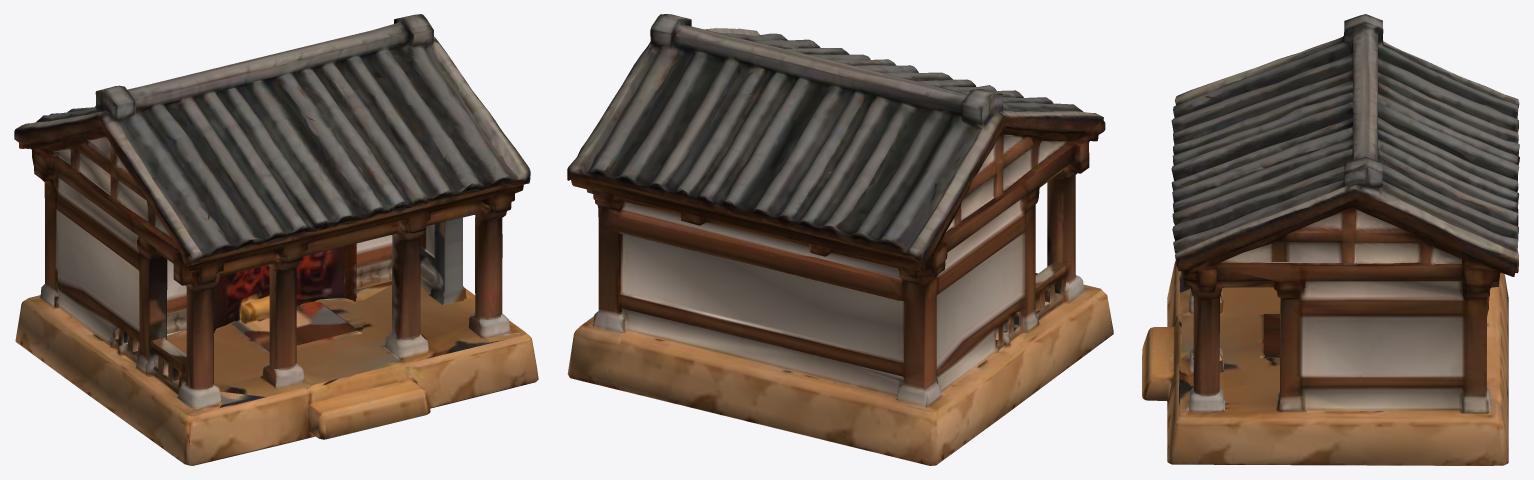
File: council-hall.glb
3 views of the same model, side by side, from view 1: azimuth 30°, elevation 25°; view 2: azimuth 150°, elevation 25°; view 3: azimuth 270°, elevation 25° (orthographic). The views are drawn at different scales.
Parts seen in each view (by area): view 1: 1_output_1793794814482953_YuXORKcny; view 2: 1_output_1793794814482953_YuXORKcny; view 3: 1_output_1793794814482953_YuXORKcny.
Boxes of the visible parts, x1,y1,x2,y2 form: 1_output_1793794814482953_YuXORKcny: [14, 14, 538, 465]; 1_output_1793794814482953_YuXORKcny: [567, 14, 1113, 465]; 1_output_1793794814482953_YuXORKcny: [1142, 14, 1519, 465].
Size of the model in its own units: 1.99 by 1.61 by 1.88.
Materials: 1 (1 with a texture image).
